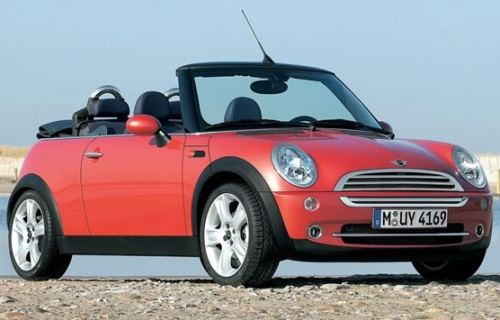other: (14, 56, 489, 287)
